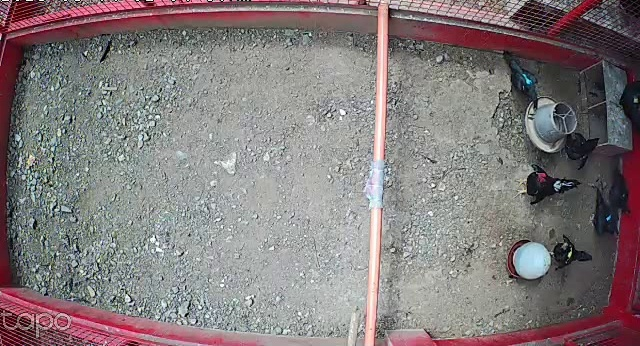Chicken: (501, 48, 542, 111), (584, 185, 622, 237), (560, 127, 601, 169), (549, 236, 594, 270), (605, 164, 632, 219)
Rooster: (511, 160, 583, 208)
Saddle_Color_Blue: (607, 214, 612, 220)
Saddle_Color_Bluegreen: (522, 72, 532, 85)
Saddle_Color_Yellow: (567, 246, 573, 261)
